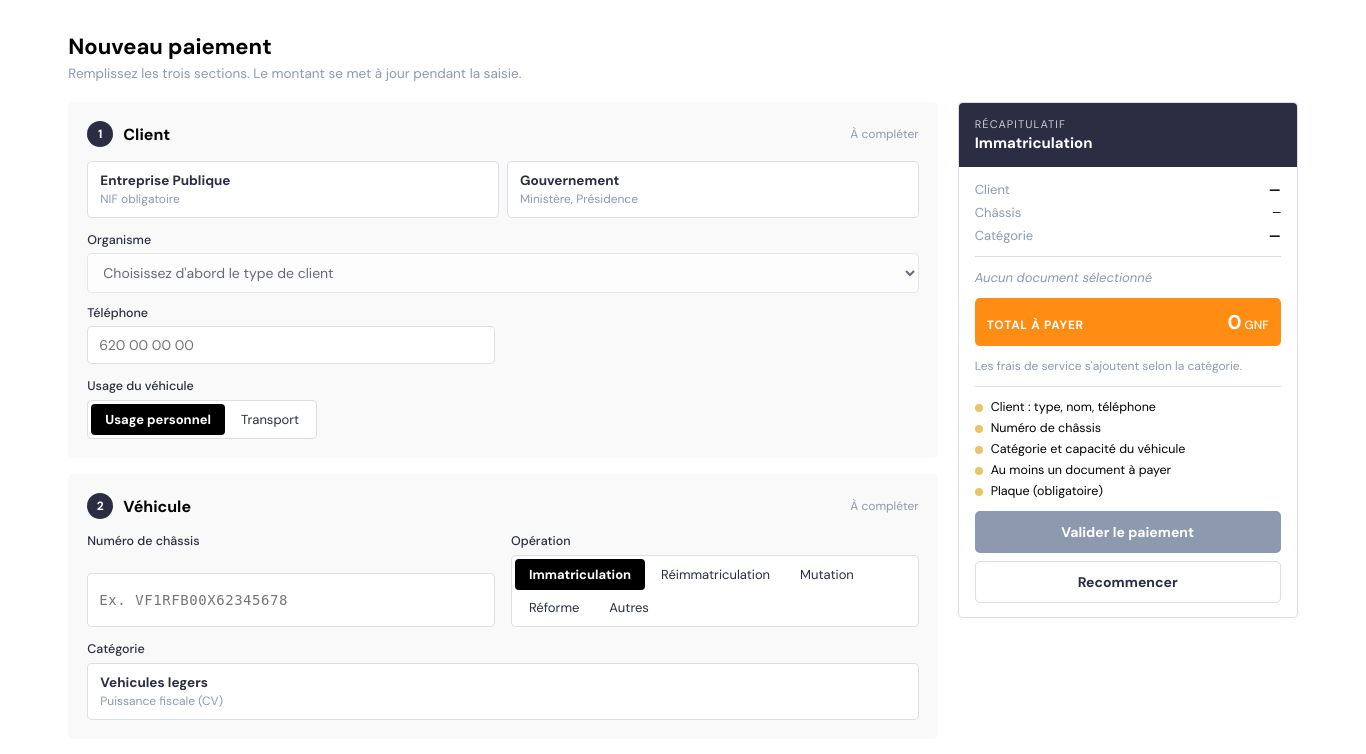
Test case: Formulaire de nouveau paiement › Châssis déjà immatriculé ou opération en cours › ne propose que Autres tant qu'une opération est en cours
The image size is (1366, 754).
Type "jtmhv02j104242881" into the field labelled "Numéro de châssis" at [291, 600], box [87,572,495,627]
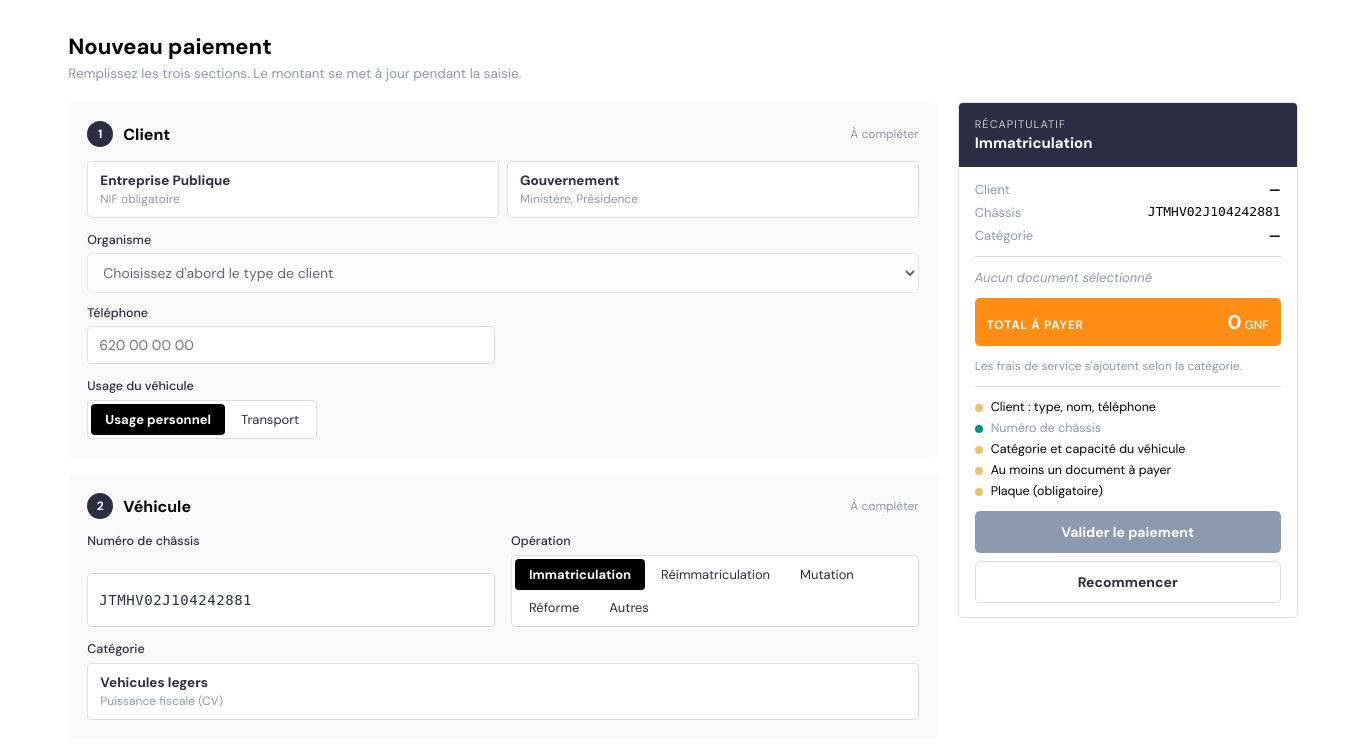
Leave the field labelled "Numéro de châssis", box [87,572,495,627]
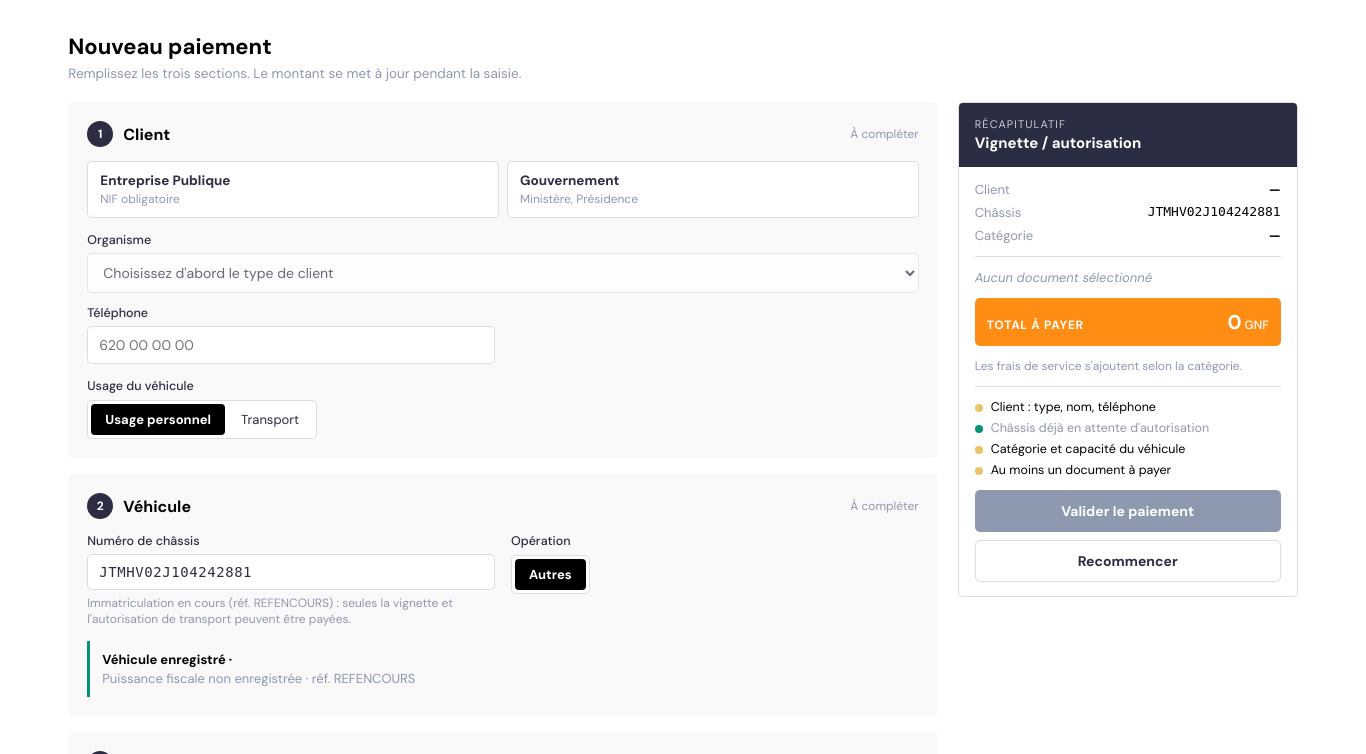
Now the text "Immatriculation en cours (réf. REFENCOURS)" is shown, box [87,595,453,627]
Now the radio button labelled "Autres" is checked, box [515,559,586,590]
Now the text labelled "Réimmatriculation" is gone
